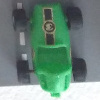carro: (13, 5, 85, 97)
